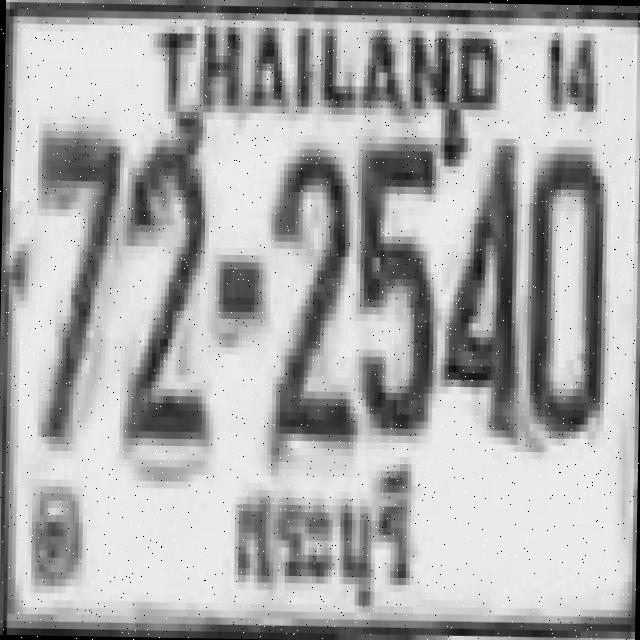0: (525, 139, 604, 432)
2: (118, 107, 210, 450), (266, 138, 348, 445)
4: (439, 130, 518, 430)
5: (353, 136, 436, 429)
7: (29, 120, 120, 440)
SingBuri: (220, 459, 423, 622)
